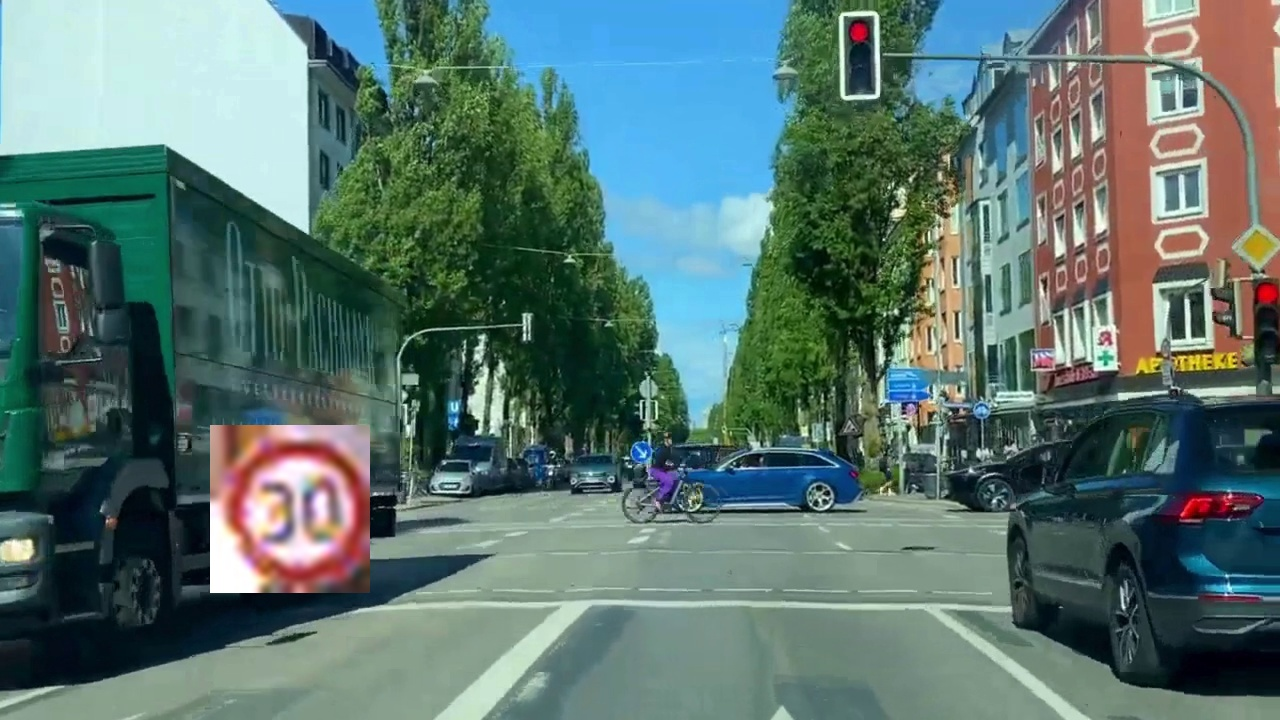Speed 30: (210, 425, 370, 593)
